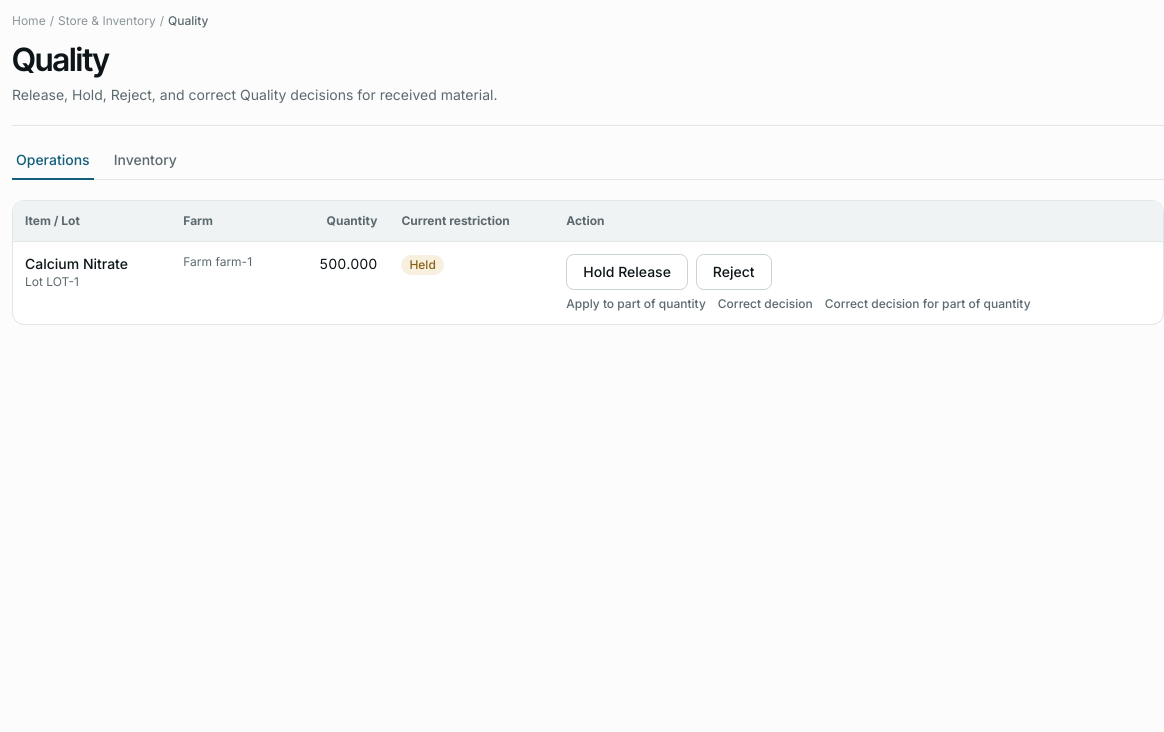
Test case: StoreInventoryQualityPage › surfaces a stale-target correction conflict verbatim
The width and height of the screenshot is (1164, 732).
Expected: the text "Calcium Nitrate" is shown, [25,255,128,272]
Click the button "Correct decision" at (765, 304), box [718,296,813,312]
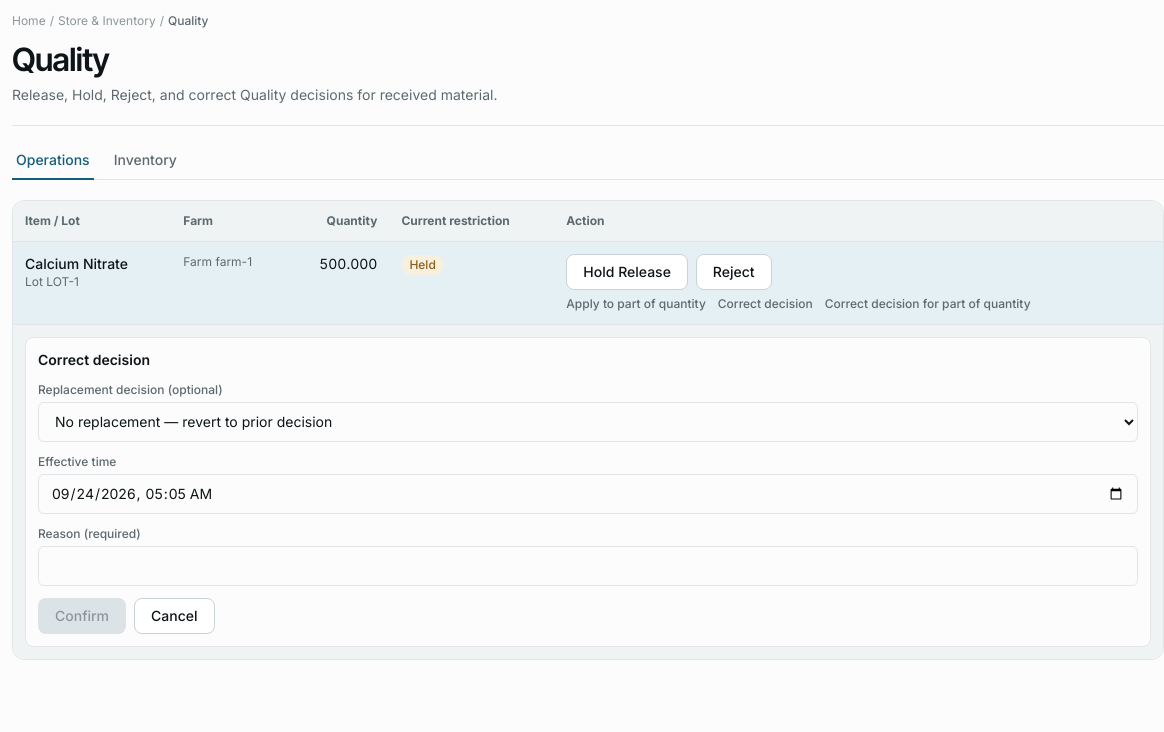
Type "attempt" into the field labelled "Reason (required)" at (588, 566), box [38,546,1138,586]
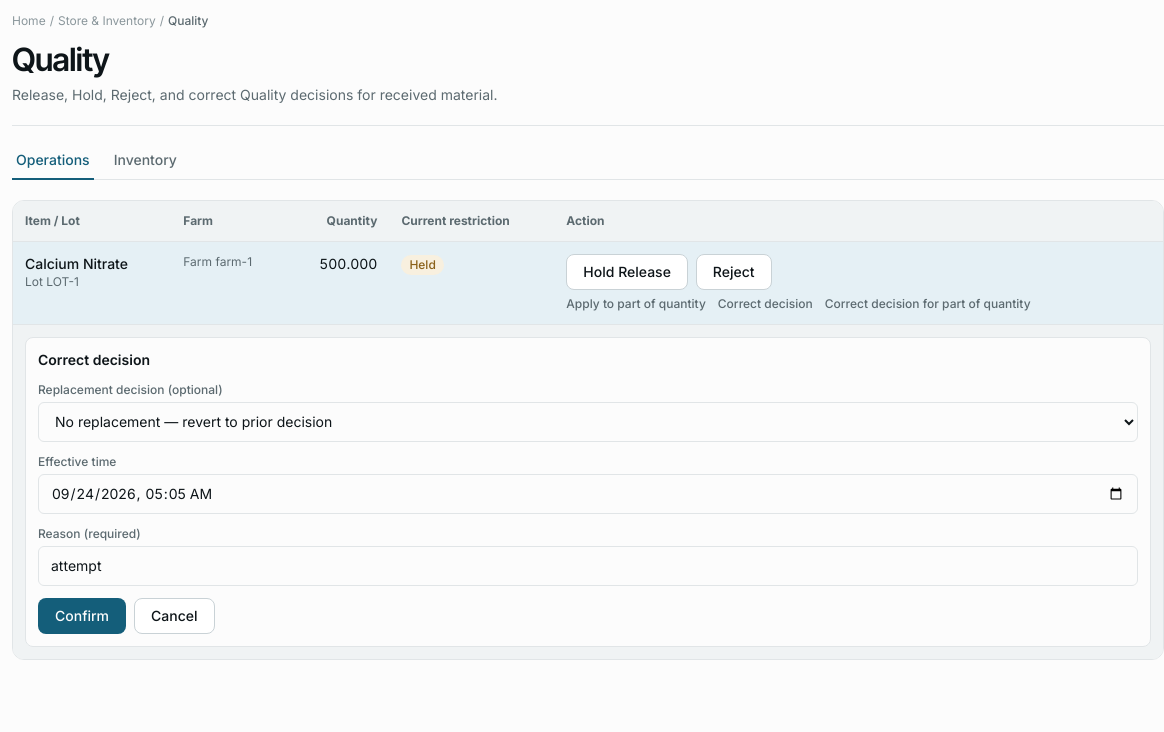
Click the button "Confirm" at (82, 616), box [38,598,126,634]
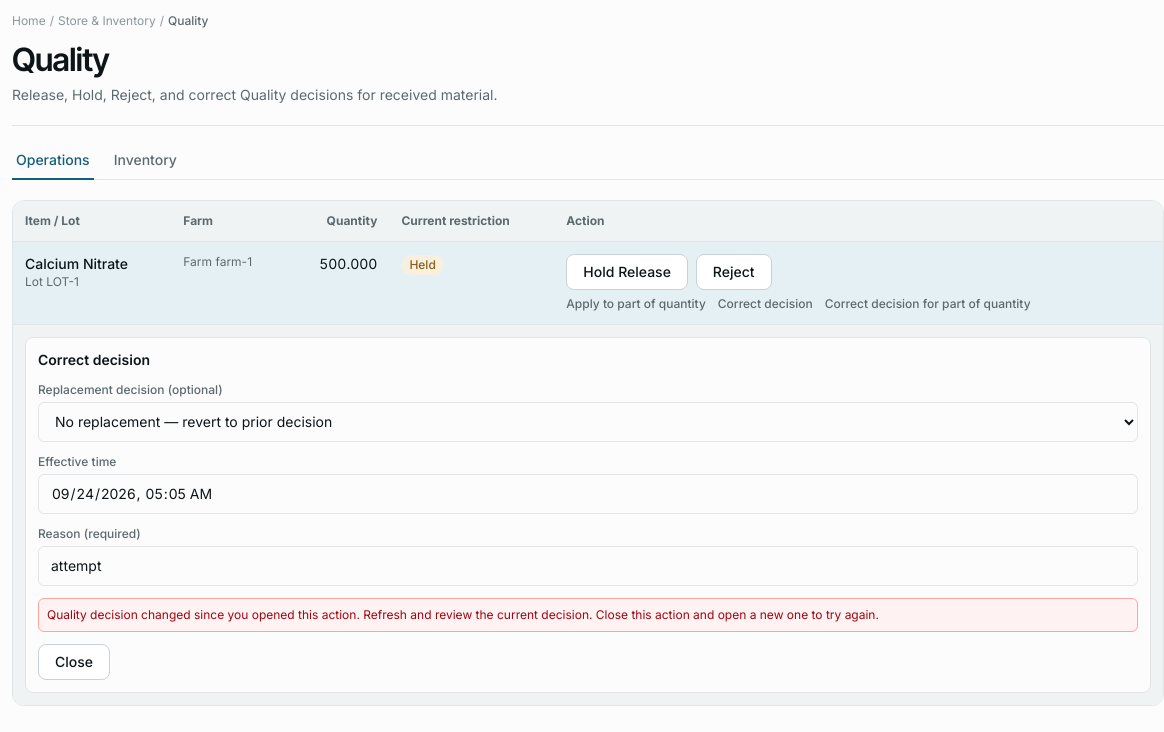
Result: the text "changed since you opened this action" is shown at [47,607,592,622]
